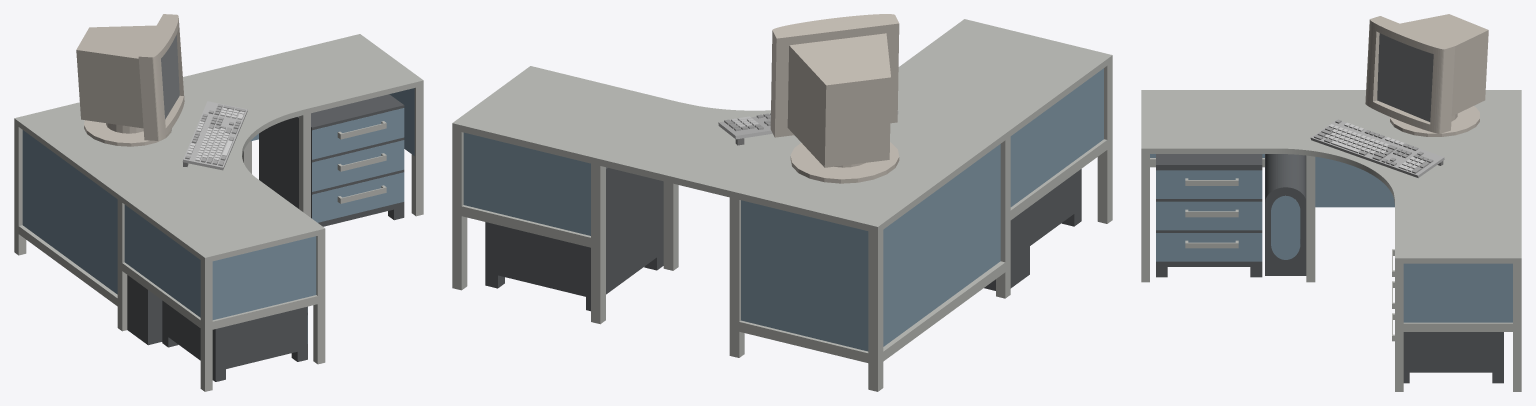
The model's file is EscritorioOficina5.glb.
3 renders of one model, left to right at view 1: azimuth 30°, elevation 25°; view 2: azimuth 150°, elevation 25°; view 3: azimuth 270°, elevation 25°, orthographic. The views are drawn at different scales.
Visible parts, largest first — view 1: Mesh_Mesh_head_geo.001_lambert2SG.001; view 2: Mesh_Mesh_head_geo.001_lambert2SG.001; view 3: Mesh_Mesh_head_geo.001_lambert2SG.001.
Part boxes in pixels (x1=…): Mesh_Mesh_head_geo.001_lambert2SG.001: x1=14, y1=14, x2=423, y2=391; Mesh_Mesh_head_geo.001_lambert2SG.001: x1=452, y1=14, x2=1112, y2=391; Mesh_Mesh_head_geo.001_lambert2SG.001: x1=1141, y1=14, x2=1521, y2=391.
Bounding box in the file's own units: 67.5 × 44 × 64.5.
